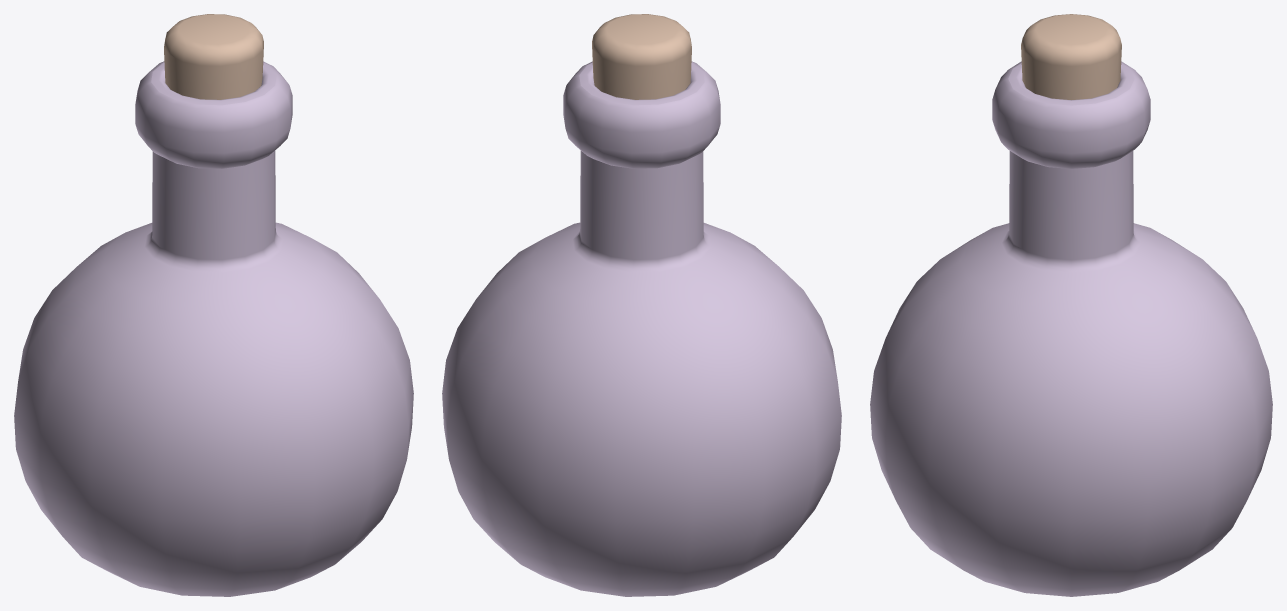
The model's file is HandP.fbx.
3 views of the same model, side by side, from view 1: azimuth 30°, elevation 25°; view 2: azimuth 150°, elevation 25°; view 3: azimuth 270°, elevation 25° (orthographic).
Visible parts, largest first — view 1: Props_L_ExtendTimePotion; view 2: Props_L_ExtendTimePotion; view 3: Props_L_ExtendTimePotion.
Part boxes in pixels (x1=…): Props_L_ExtendTimePotion: x1=14, y1=14, x2=413, y2=596; Props_L_ExtendTimePotion: x1=442, y1=14, x2=841, y2=596; Props_L_ExtendTimePotion: x1=870, y1=14, x2=1272, y2=596.
Size of the model in its own units: 120 by 179 by 120.
